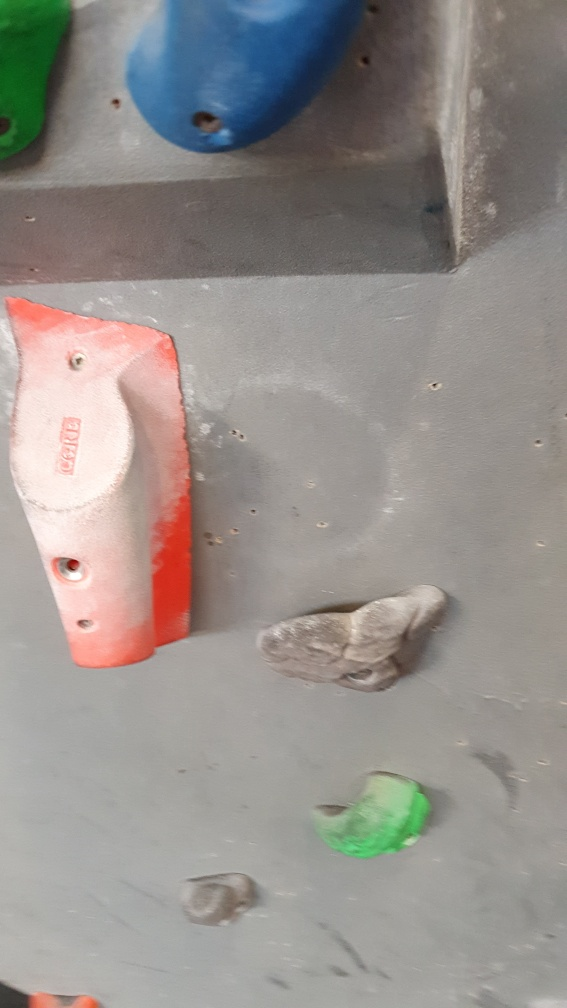Jug: (258, 579, 450, 691), (308, 765, 434, 864)
Pinch: (1, 290, 198, 671)
